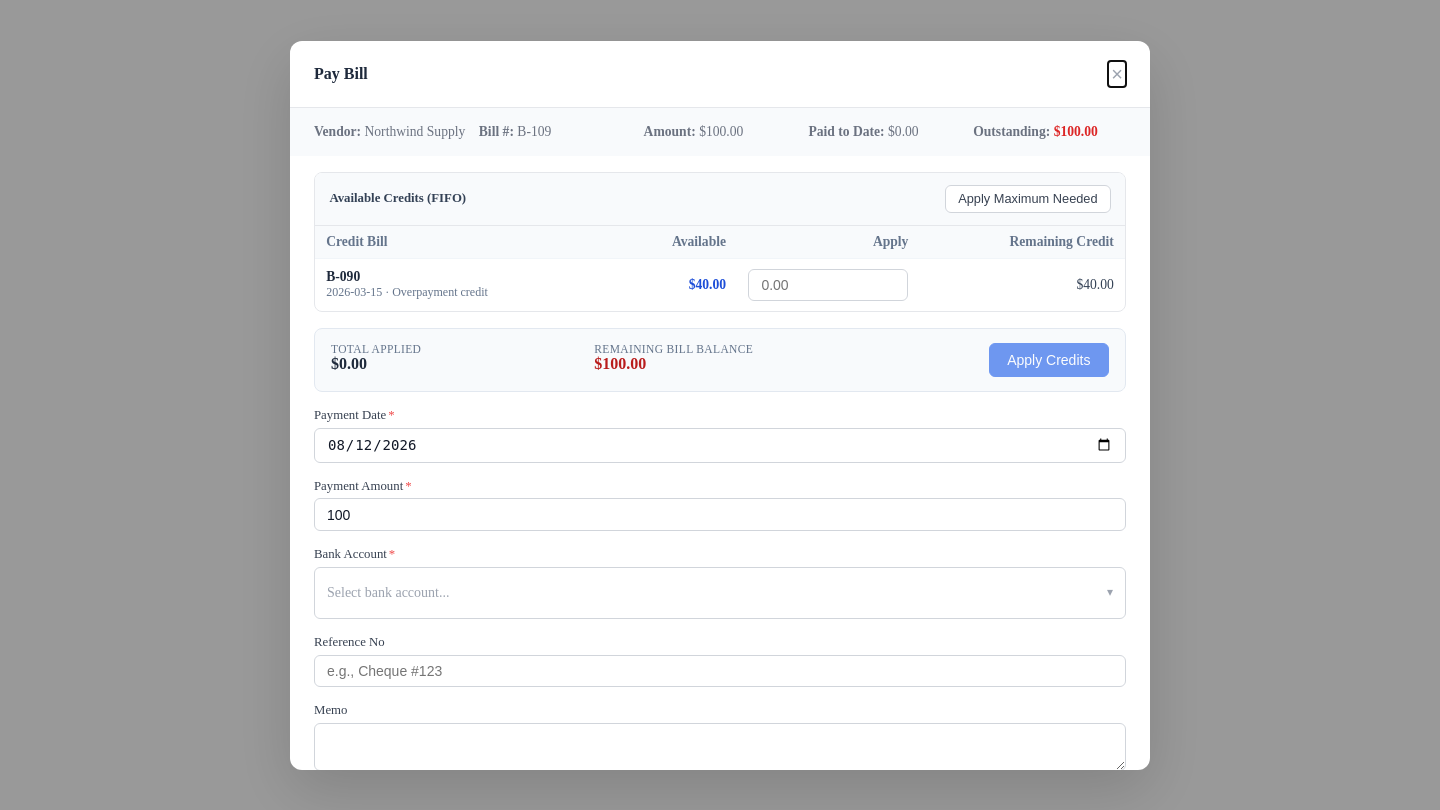
PaymentModal › applies available credits and shows the applied indicator
The width and height of the screenshot is (1440, 810).
In the number field with placeholder "0.00": (828, 285) [748,269,908,301], type "20"
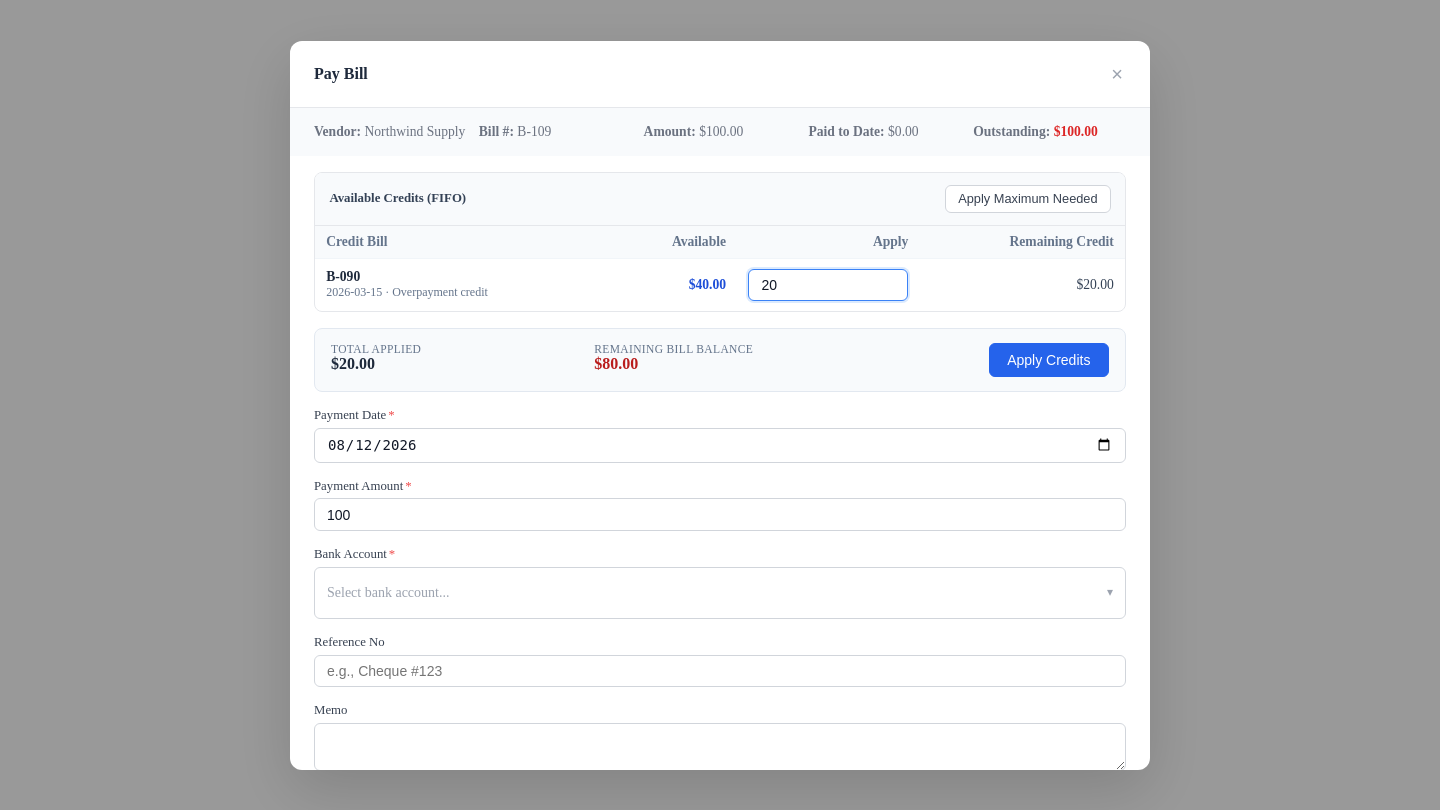
Click the button "Apply Credits": (1049, 360) [988,343,1109,377]
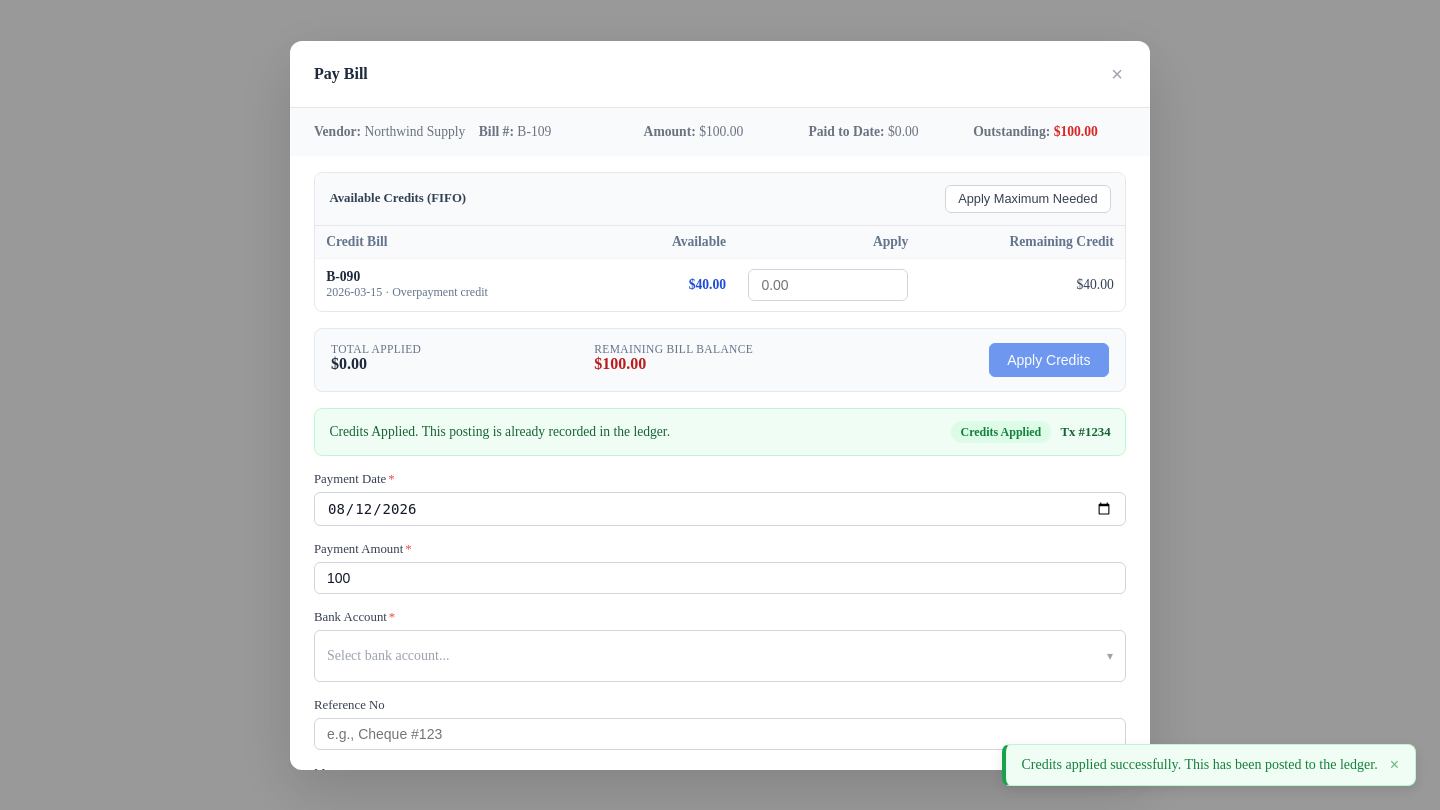
Expected: the text "Tx #1234" is shown, [1060,425,1111,440]
